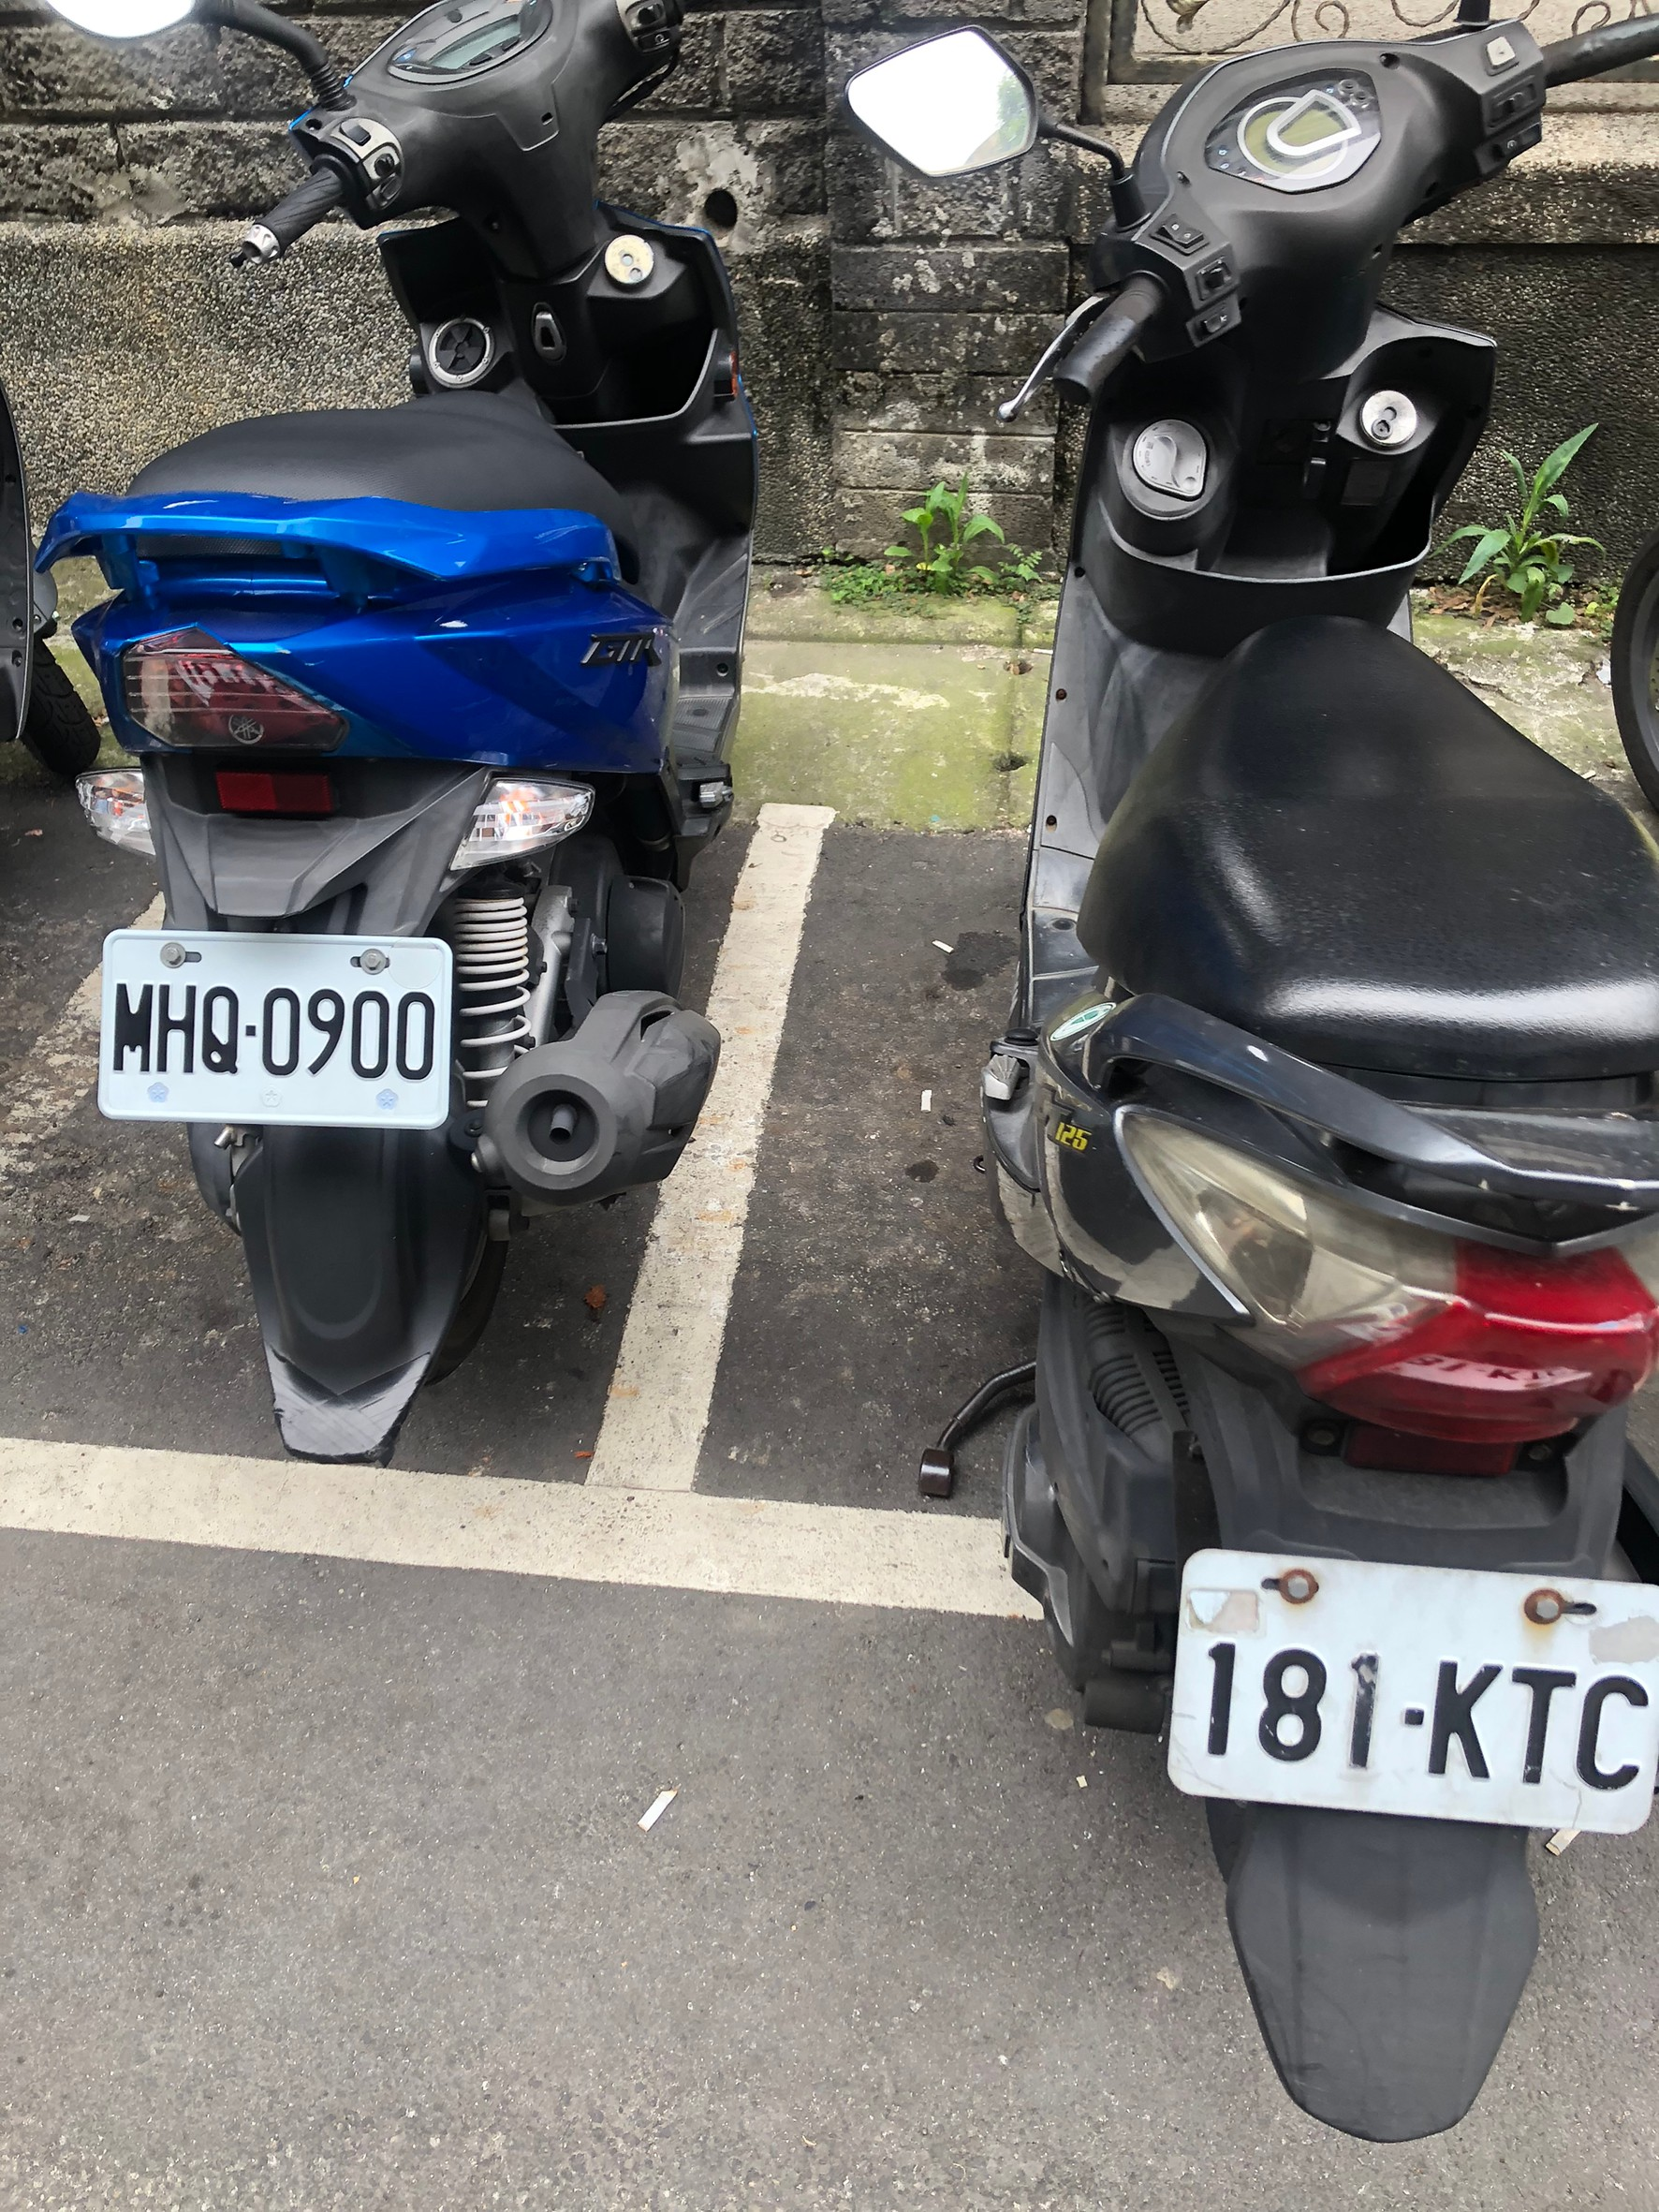LP: (1166, 1536, 1659, 1844), (103, 920, 457, 1133)
